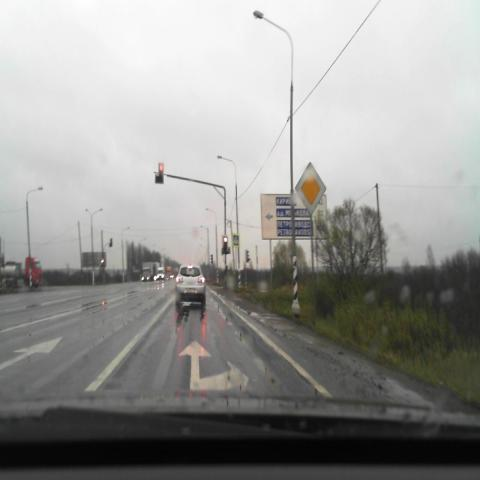2_1: (295, 161, 327, 216)
